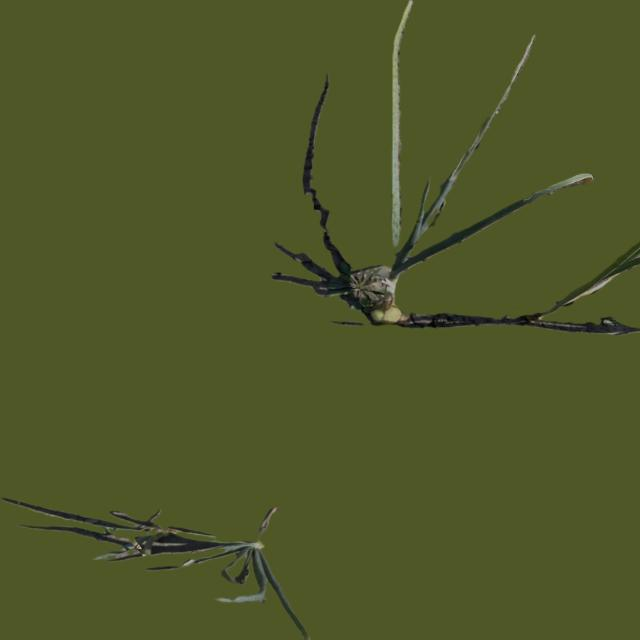Onion: (372, 46, 570, 327), (44, 502, 342, 640)
